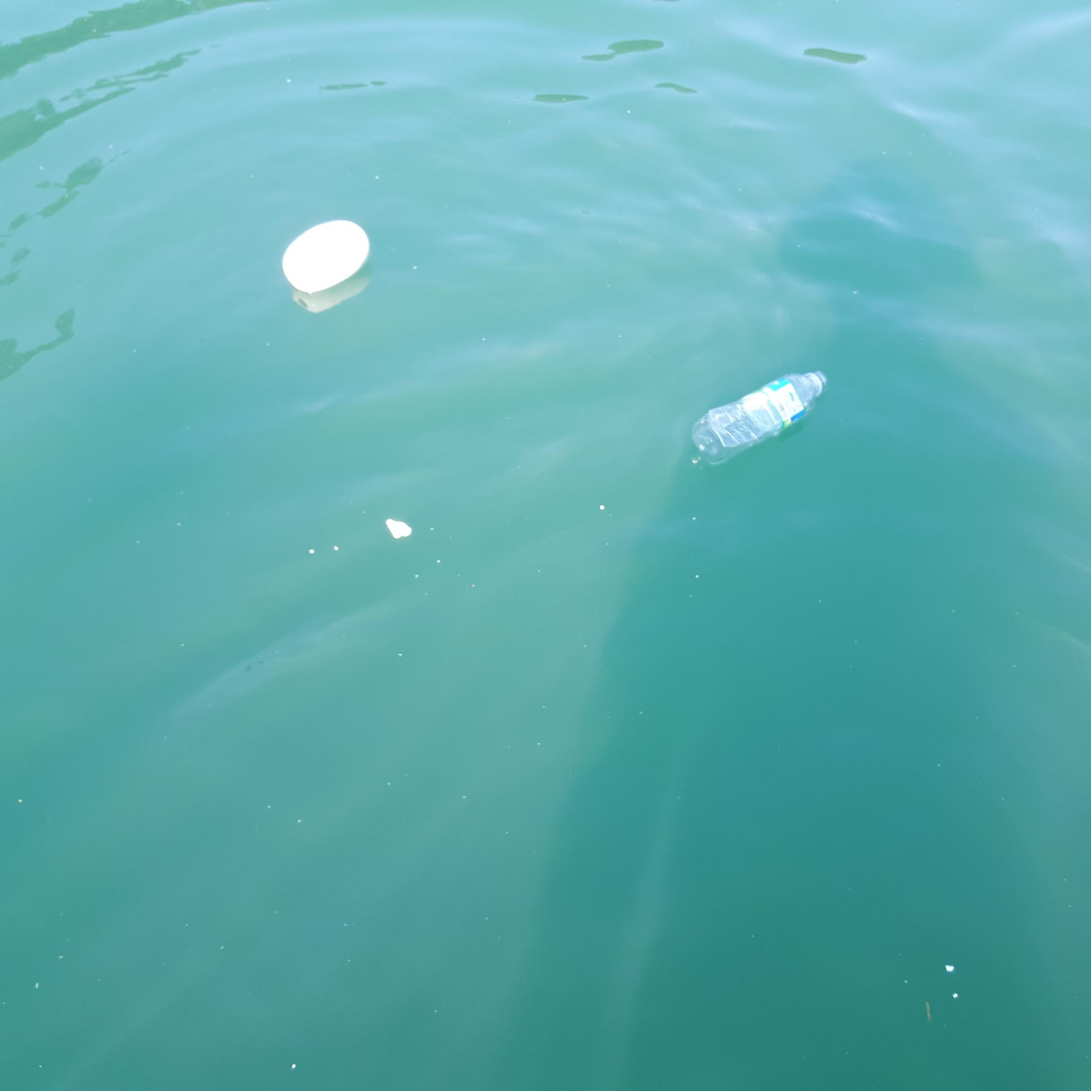sampah_terapung: (691, 371, 828, 467), (283, 221, 370, 296), (387, 519, 412, 540)
